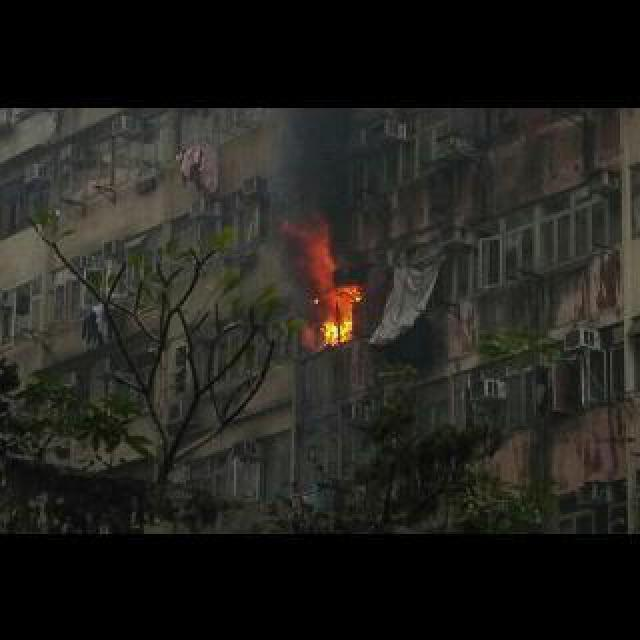Fire: (318, 282, 360, 342)
Smoke: (268, 104, 360, 290)
